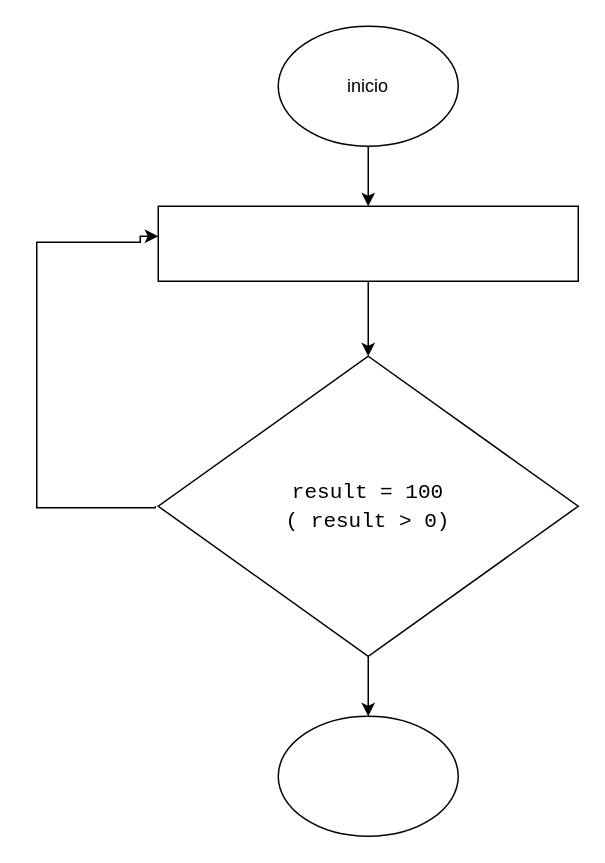
This 605x863 diagram has some shape labels left out. The box of each missing label's shape, as (x1, y1, x2, y2) in pixels:
fim: (277, 715, 458, 836)
result = result - 2: (157, 205, 578, 281)
